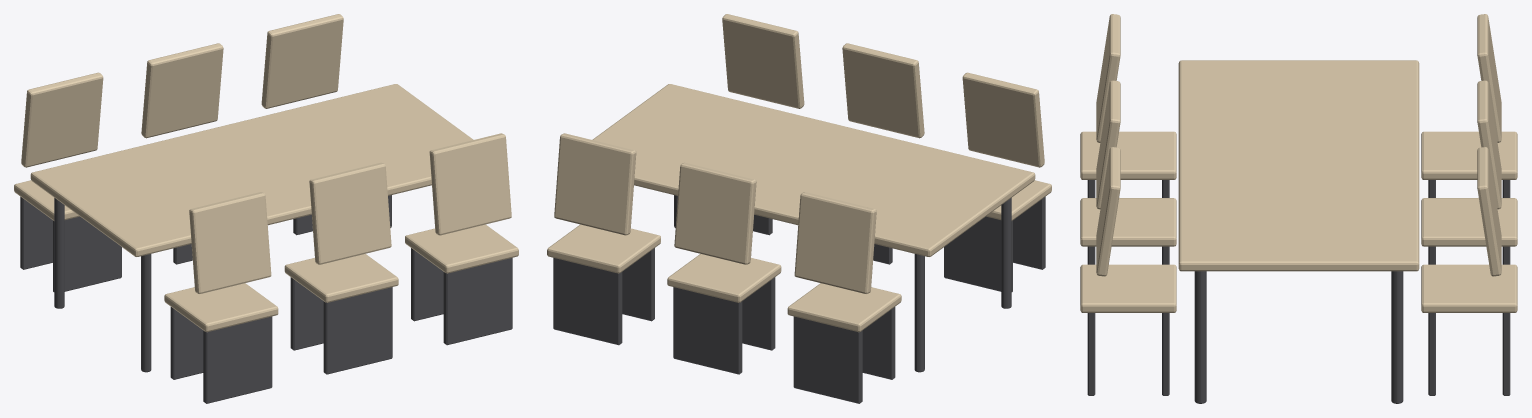
File: dining_set.glb
3 views of the same model, side by side, from view 1: azimuth 30°, elevation 25°; view 2: azimuth 150°, elevation 25°; view 3: azimuth 270°, elevation 25° (orthographic). The views are drawn at different scales.
Parts seen in each view (by area): view 1: tampo, encosto.004, encosto, encosto.002, encosto.001, encosto.005, encosto.003, pec.004, pec, pec.008, assento.003, assento.001 (+9 smaller); view 2: tampo, encosto.005, encosto.001, encosto.003, encosto, encosto.004, encosto.002, pec.007, pec.003, pec.011, assento.004, assento.002 (+9 smaller); view 3: tampo, assento.005, assento, assento.003, assento.004, assento.001, assento.002, encosto.004, encosto.005, perna.002, perna.003, encosto (+7 smaller).
Part boxes in pixels (<box>): tampo: <box>30,84,473,256</box>; encosto.004: <box>429,133,511,235</box>; encosto: <box>189,192,271,293</box>; encosto.002: <box>309,162,391,264</box>; encosto.001: <box>21,72,103,167</box>; encosto.005: <box>261,14,343,108</box>; encosto.003: <box>141,43,223,138</box>; pec.004: <box>323,287,392,374</box>; pec: <box>203,316,272,403</box>; pec.008: <box>443,258,512,345</box>; assento.003: <box>284,254,398,302</box>; assento.001: <box>164,283,278,332</box>; tampo: <box>592,84,1035,256</box>; encosto.005: <box>554,133,636,235</box>; encosto.001: <box>794,192,876,293</box>; encosto.003: <box>674,162,756,264</box>; encosto: <box>962,72,1044,167</box>; encosto.004: <box>722,14,804,108</box>; encosto.002: <box>842,43,924,138</box>; pec.007: <box>673,287,742,374</box>; pec.003: <box>793,316,862,403</box>; pec.011: <box>553,258,622,345</box>; assento.004: <box>667,254,781,302</box>; assento.002: <box>787,283,901,332</box>; tampo: <box>1178,60,1419,271</box>; assento.005: <box>1080,264,1176,312</box>; assento: <box>1421,264,1517,312</box>; assento.003: <box>1080,198,1176,246</box>; assento.004: <box>1421,198,1517,246</box>; assento.001: <box>1080,131,1176,179</box>; assento.002: <box>1421,131,1517,179</box>; encosto.004: <box>1096,147,1120,276</box>; encosto.005: <box>1477,147,1501,276</box>; perna.002: <box>1194,271,1206,403</box>; perna.003: <box>1391,271,1403,403</box>; encosto: <box>1096,14,1120,142</box>.
Bounding box in the file's own units: 2.2 × 1.07 × 2.
